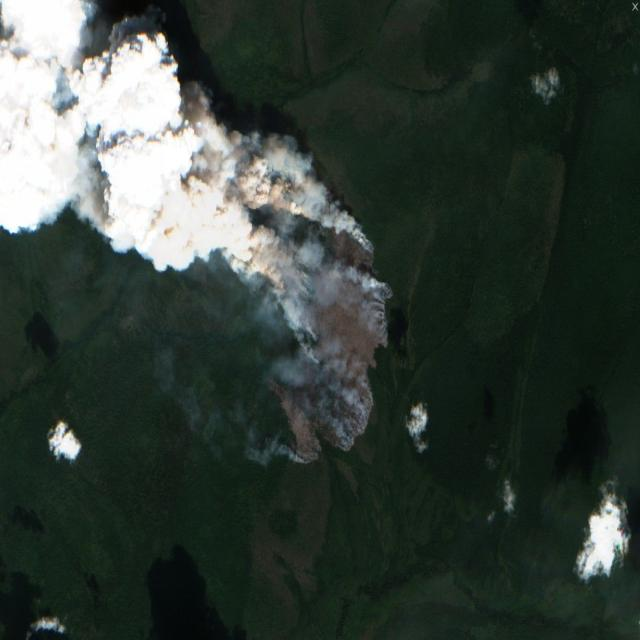fire: (221, 134, 393, 470)
